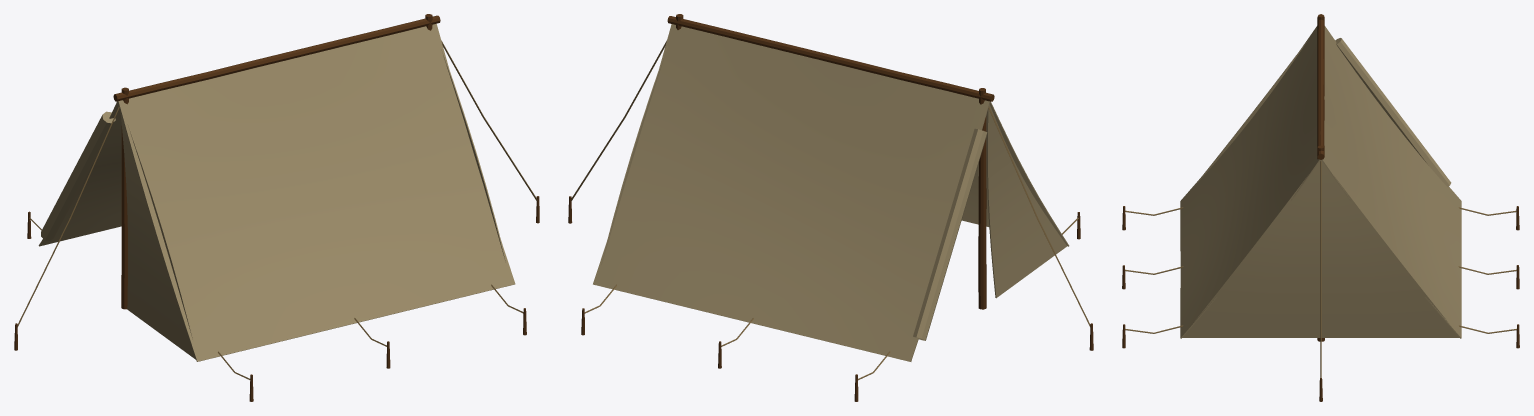
The model's file is zelt.glb.
3 renders of one model, left to right at view 1: azimuth 30°, elevation 25°; view 2: azimuth 150°, elevation 25°; view 3: azimuth 270°, elevation 25°, orthographic. The views are drawn at different scales.
Visible parts, largest first — view 1: zelt; view 2: zelt; view 3: zelt.
Part boxes in pixels (x1,y1,x2,y2): zelt: (14,14,539,401); zelt: (568,14,1093,401); zelt: (1122,14,1519,401).
Size of the model in its own units: 4.23 by 1.8 by 3.13.
